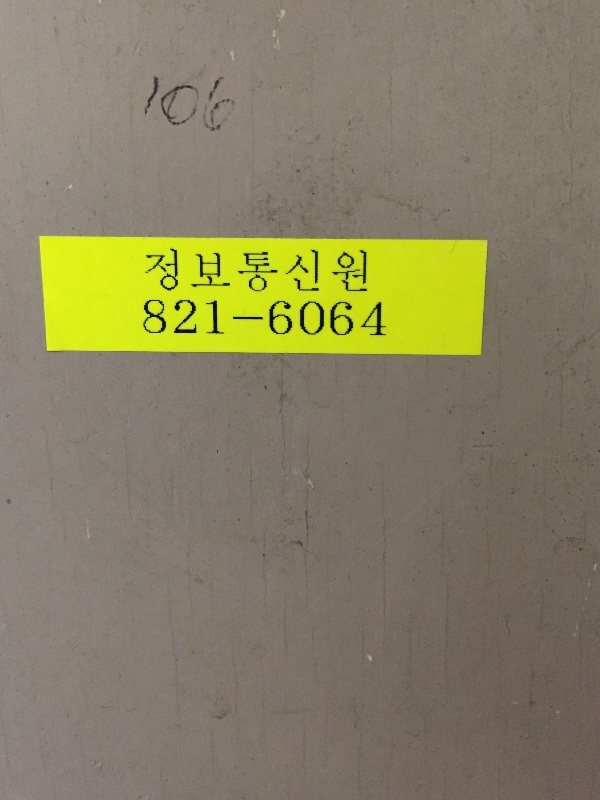text: (161, 69, 176, 143), (177, 69, 192, 143), (193, 69, 208, 143), (209, 69, 224, 143), (225, 69, 240, 143), (150, 69, 160, 143), (161, 247, 176, 295), (177, 247, 192, 295), (193, 247, 208, 295), (209, 247, 224, 295), (225, 247, 240, 295), (241, 247, 256, 295), (257, 247, 272, 295), (273, 247, 288, 295), (289, 247, 304, 295), (305, 247, 320, 295), (321, 247, 336, 295), (337, 247, 352, 295), (353, 247, 368, 295), (146, 247, 160, 295), (145, 296, 160, 340), (161, 296, 176, 340), (177, 296, 192, 340), (193, 296, 208, 340), (209, 296, 224, 340), (225, 296, 240, 340), (241, 296, 256, 340), (257, 296, 272, 340), (273, 296, 288, 340), (289, 296, 304, 340), (305, 296, 320, 340), (321, 296, 336, 340), (337, 296, 352, 340), (353, 296, 368, 340), (369, 296, 384, 340), (385, 296, 387, 340)
